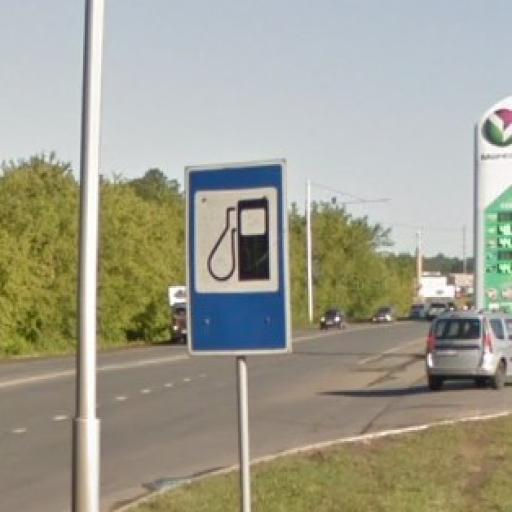traffic_sign: (185, 160, 296, 358)
